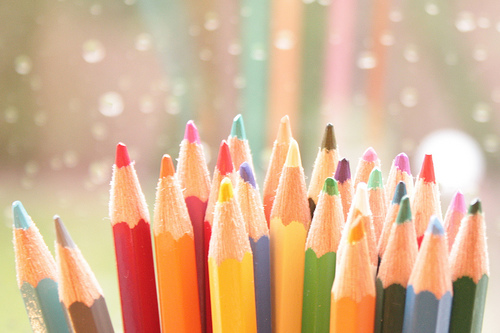pen_tip: (39, 211, 106, 324), (99, 141, 154, 251), (149, 150, 199, 248)
